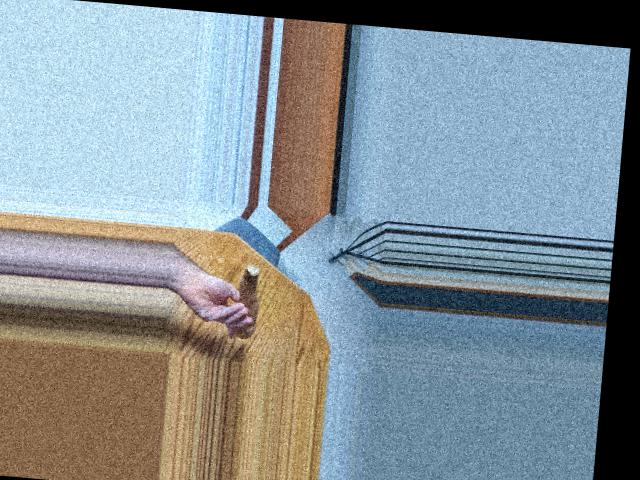sweet_potato: (230, 268, 267, 335)
